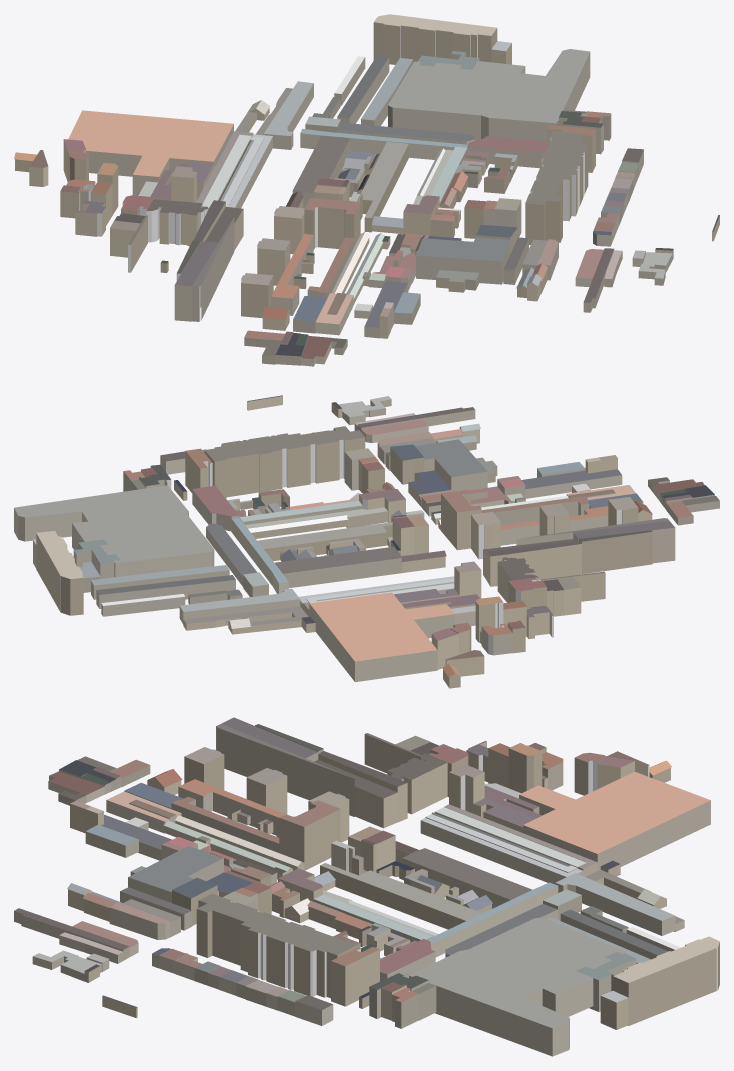
3 views of the same model, one above another, from view 1: azimuth 30°, elevation 25°; view 2: azimuth 150°, elevation 25°; view 3: azimuth 270°, elevation 25° (orthographic). The views are drawn at different scales.
Parts seen in each view (by area): view 1: tuile; view 2: tuile; view 3: tuile.
Boxes of the visible parts, x1,y1,x2,y2 form: tuile: (14, 14, 719, 366); tuile: (14, 395, 719, 688); tuile: (14, 717, 719, 1056).
Size of the model in its own units: 296 by 22.9 by 294.
